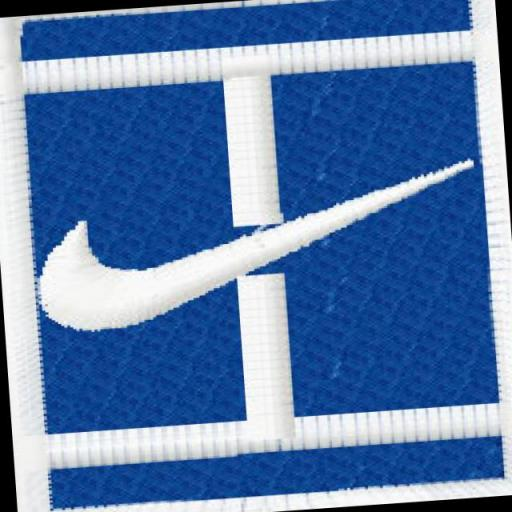Nike: (28, 160, 486, 335)
